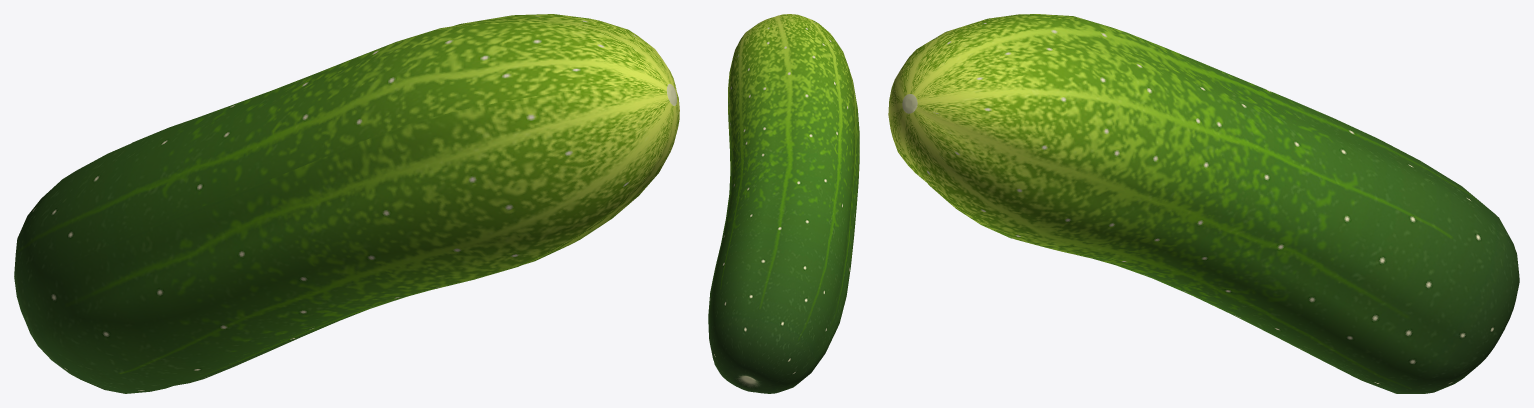
File: GreenVegetableCucumber.fbx
3 renders of one model, left to right at view 1: azimuth 30°, elevation 25°; view 2: azimuth 150°, elevation 25°; view 3: azimuth 270°, elevation 25°, orthographic. The views are drawn at different scales.
Parts seen in each view (by area): view 1: Cucumber; view 2: Cucumber; view 3: Cucumber.
Boxes of the visible parts, x1,y1,x2,y2 form: Cucumber: (14,14,679,393); Cucumber: (708,14,859,393); Cucumber: (888,14,1519,393).
Size of the model in its own units: 0.067 by 0.1066 by 0.0807.
1 material, 1 textured.
